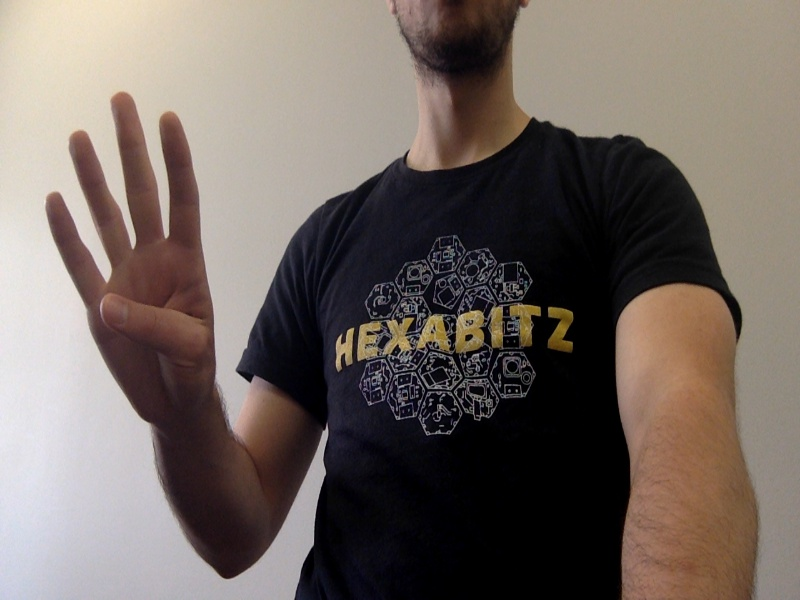4-hand: (48, 94, 216, 426)
